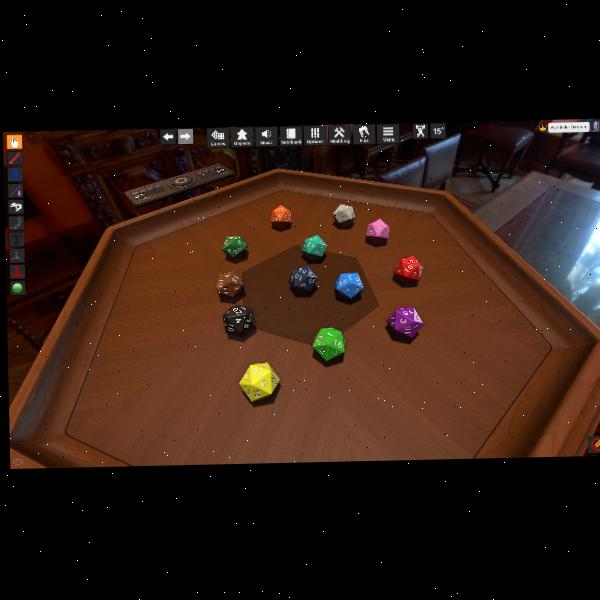d20: (239, 361, 283, 401), (387, 307, 422, 340), (312, 326, 345, 360), (223, 302, 256, 335), (393, 255, 421, 283), (289, 266, 318, 293), (334, 272, 363, 299), (216, 270, 243, 298), (222, 234, 247, 258), (300, 234, 325, 258), (368, 217, 391, 242), (271, 203, 293, 225), (332, 203, 354, 224)
